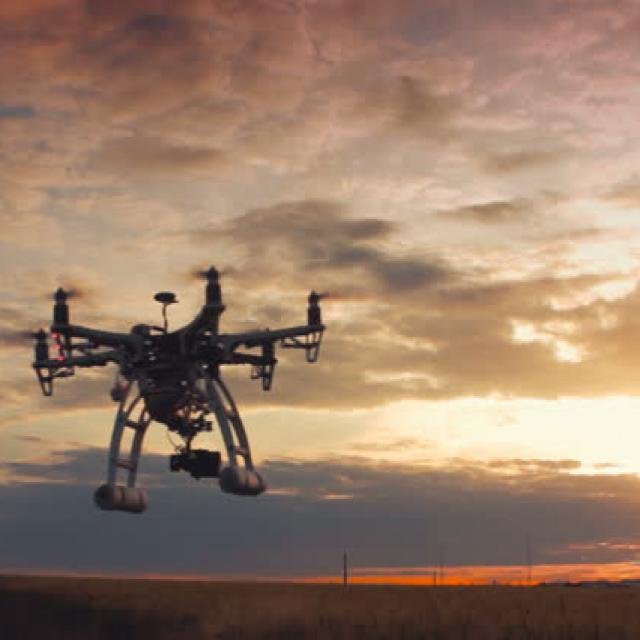drone: (0, 265, 355, 430)
